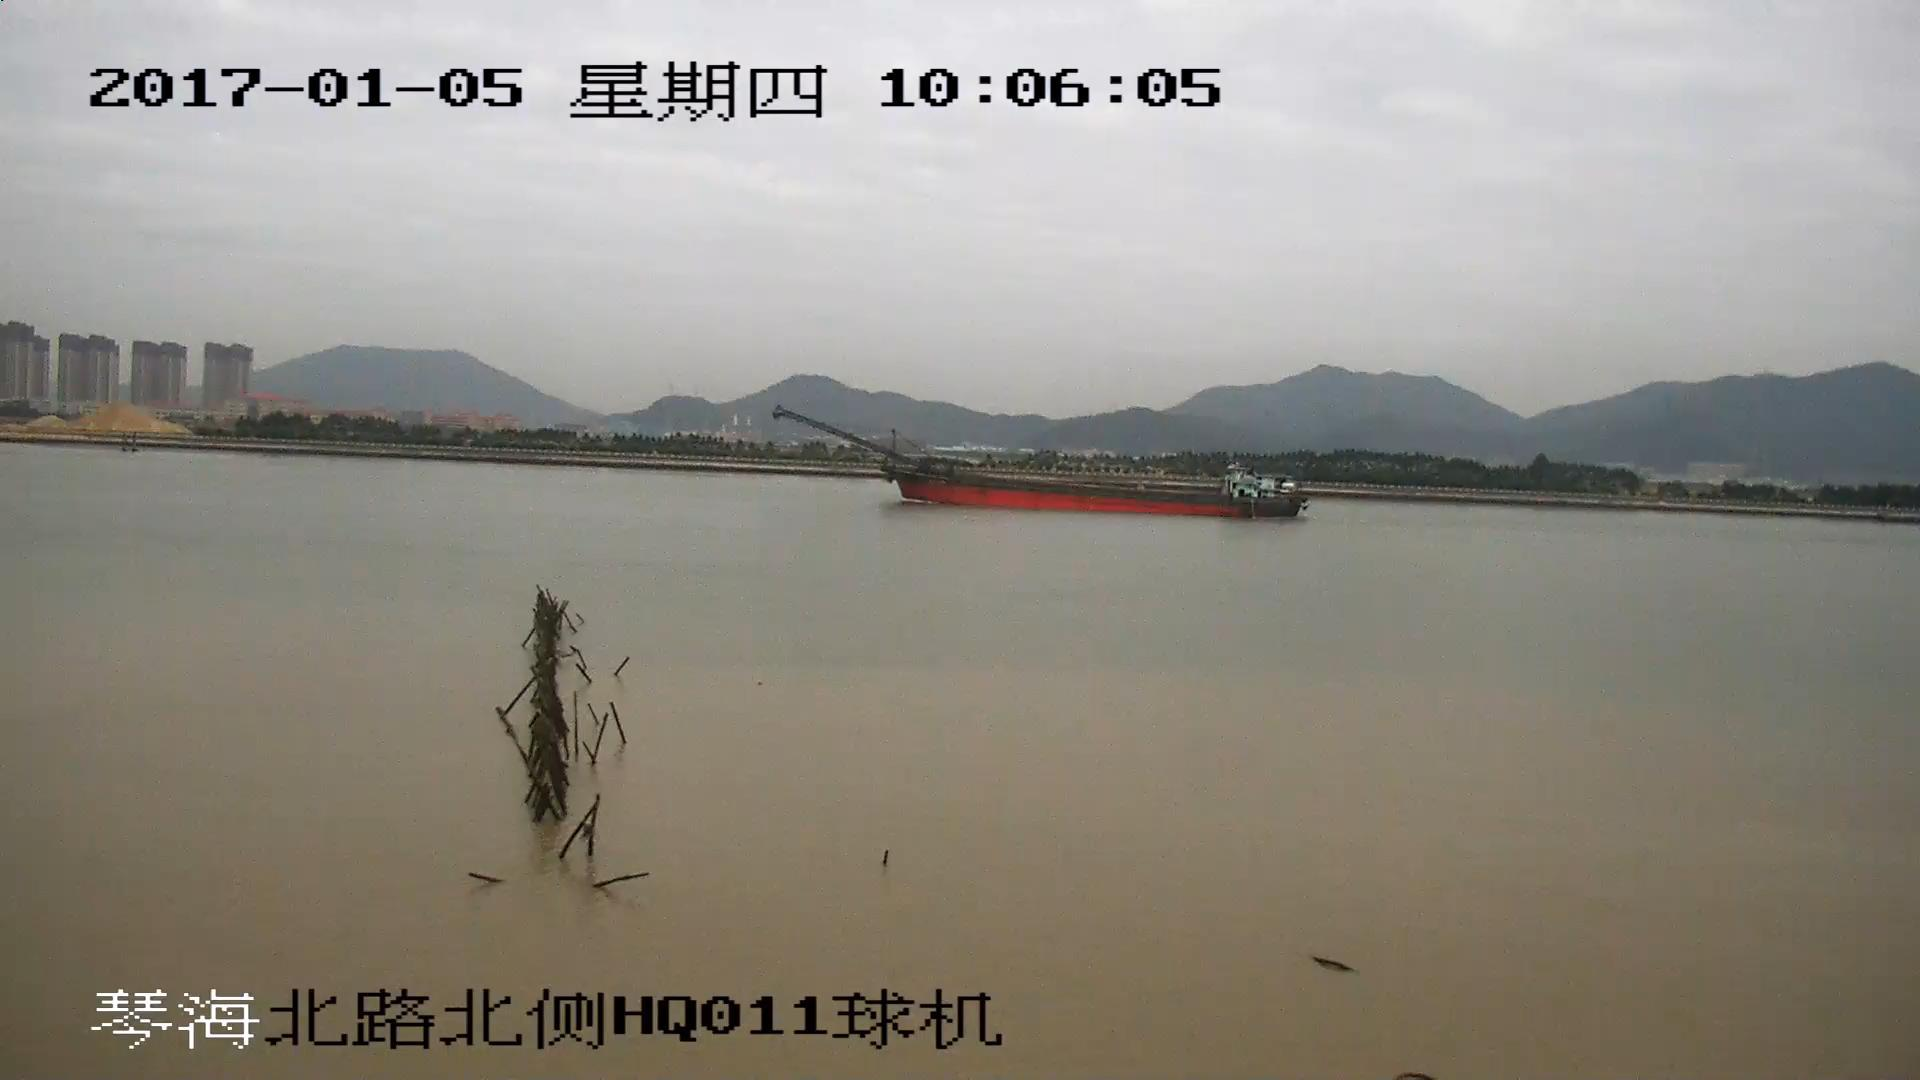Ship: (777, 414, 1308, 518)
